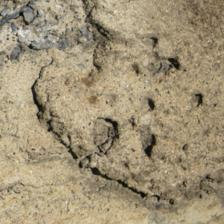Crack: (14, 30, 160, 175)
